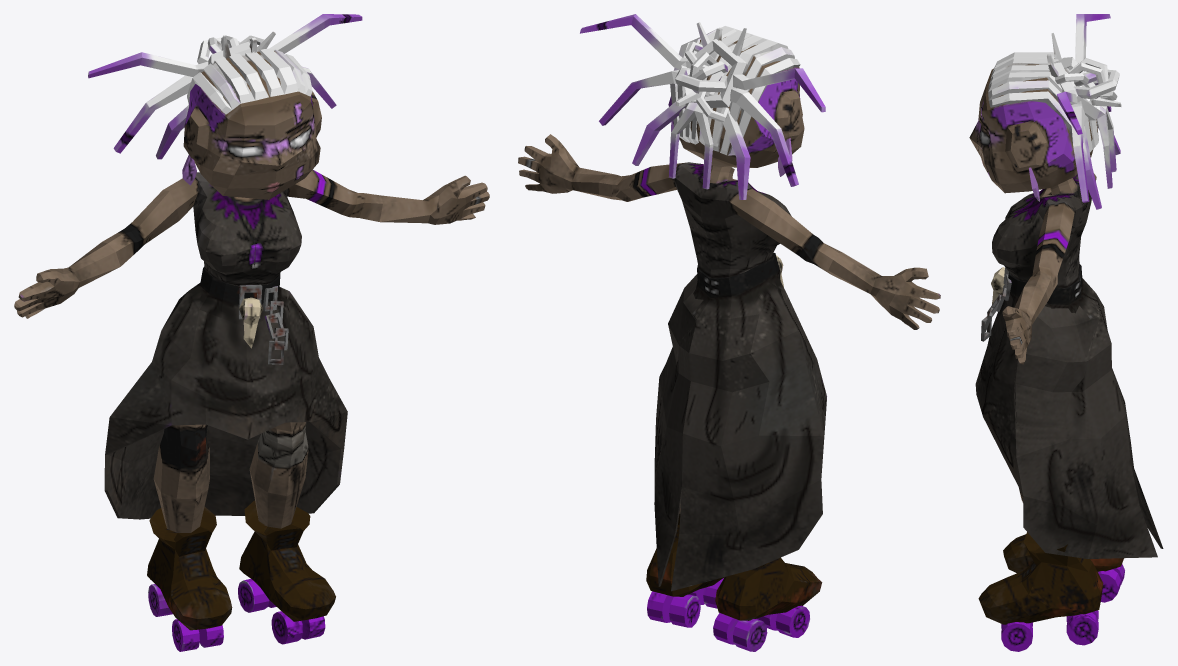
Rendered from bruja_000101.obj.
3 renders of one model, left to right at view 1: azimuth 30°, elevation 25°; view 2: azimuth 150°, elevation 25°; view 3: azimuth 270°, elevation 25°, orthographic. The views are drawn at different scales.
Visible parts, largest first — view 1: Bruja_Plane.001; view 2: Bruja_Plane.001; view 3: Bruja_Plane.001.
Part boxes in pixels (x1,y1,x2,y2): Bruja_Plane.001: (14, 14, 489, 651); Bruja_Plane.001: (518, 14, 940, 651); Bruja_Plane.001: (969, 14, 1163, 651).
Bounding box in the file's own units: 12.83 × 16.57 × 4.99.
